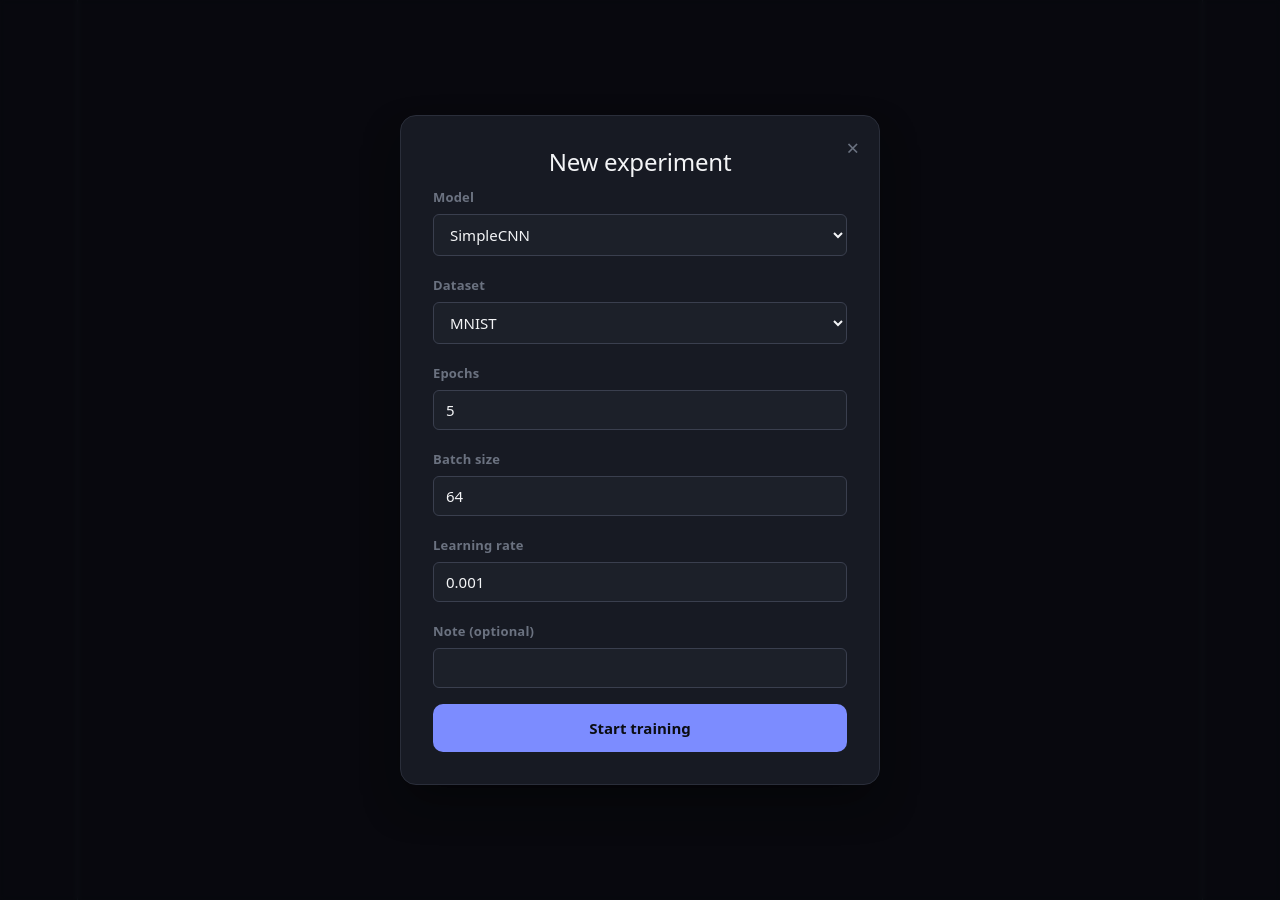
Test: NewExperimentModal › disables the submit button while the request is in flight
Click the button "Start training" at {"x": 640, "y": 728}, box [433, 704, 847, 752]
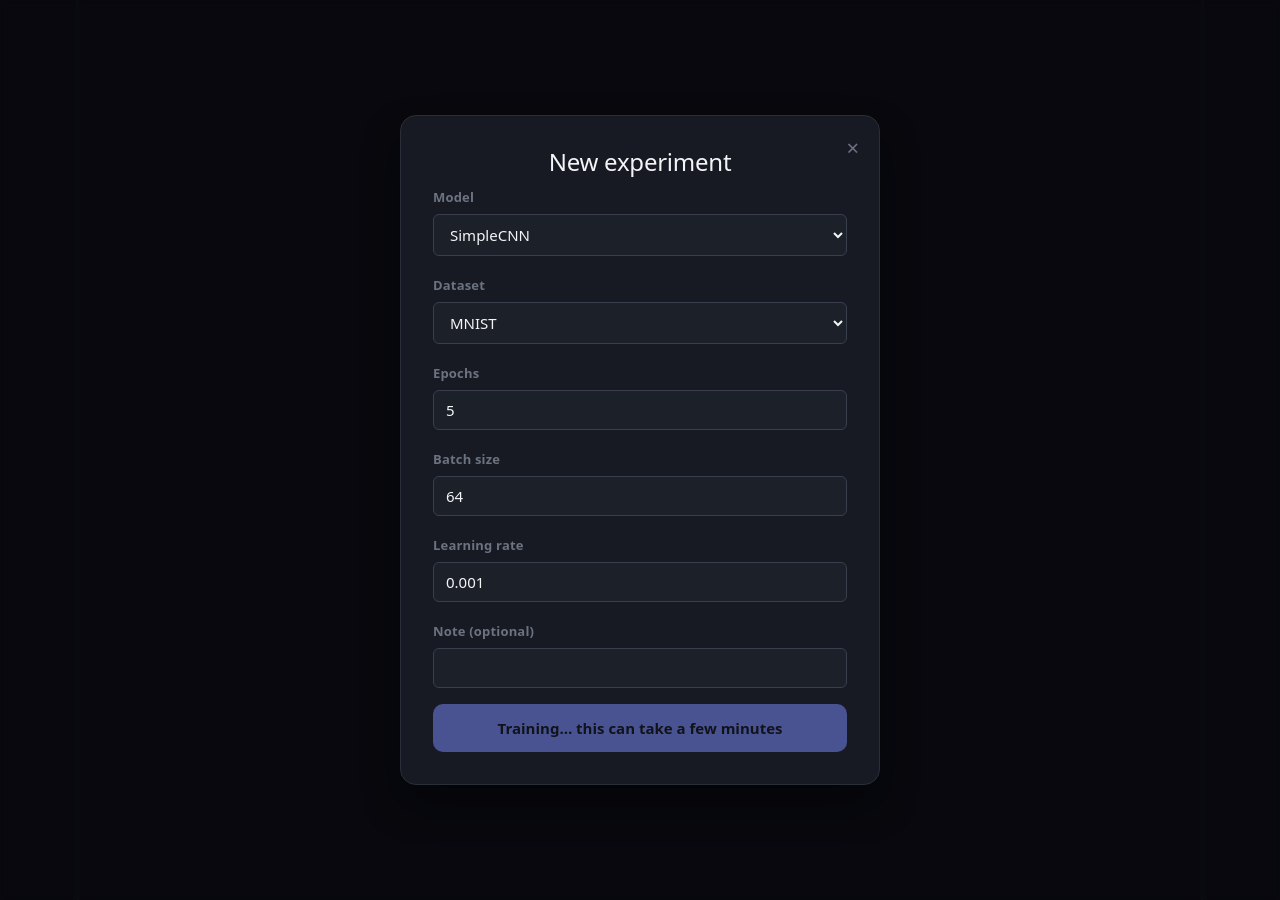
Result: the button "Training… this can take a few minutes" is disabled at [433, 704, 847, 752]
